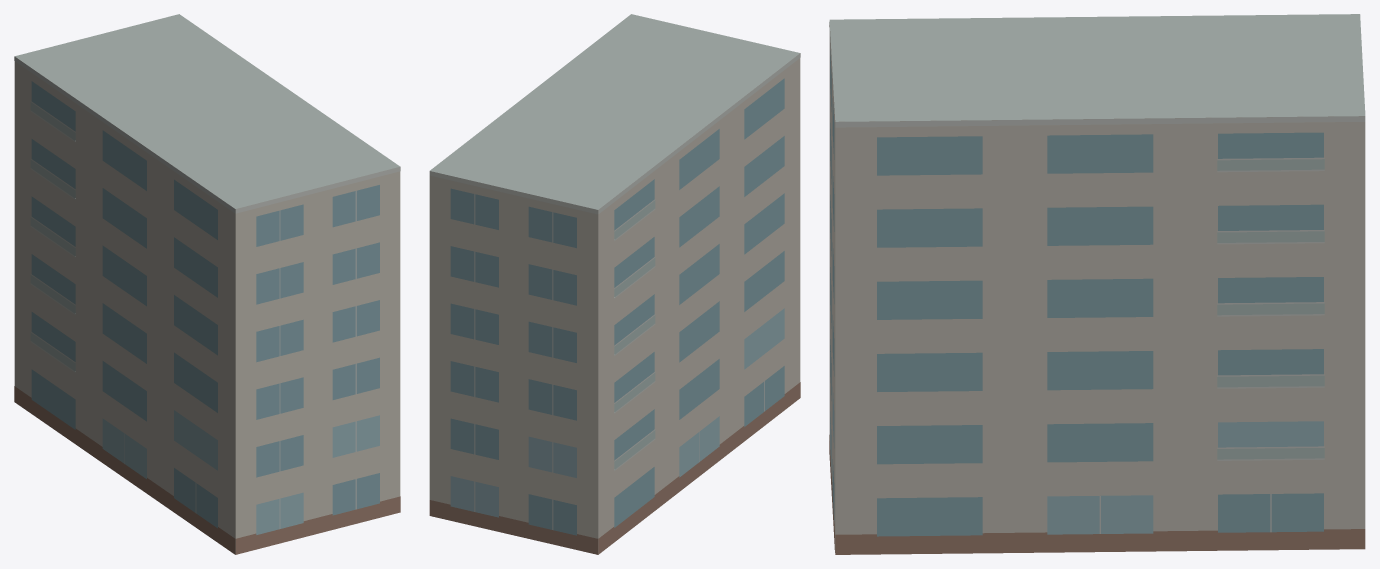
The model's file is survey-upis-32738480.glb.
The picture shows the model from 3 angles, left to right: view 1: azimuth 30°, elevation 25°; view 2: azimuth 150°, elevation 25°; view 3: azimuth 270°, elevation 25°; orthographic projection. The views are drawn at different scales.
Parts seen in each view (by area): view 1: survey-upis-32738480.tmp; view 2: survey-upis-32738480.tmp; view 3: survey-upis-32738480.tmp.
Part boxes in pixels (left/top/right/bottom): survey-upis-32738480.tmp: left=14, top=14, right=400, bottom=554; survey-upis-32738480.tmp: left=429, top=14, right=800, bottom=554; survey-upis-32738480.tmp: left=829, top=14, right=1365, bottom=554.
Size of the model in its own units: 9.78 by 18.3 by 20.54.
